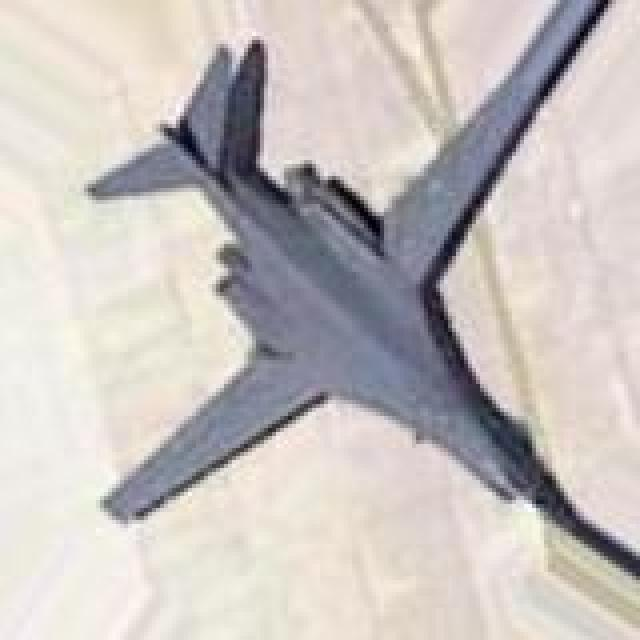B-1_TopDown: (80, 0, 636, 608)
